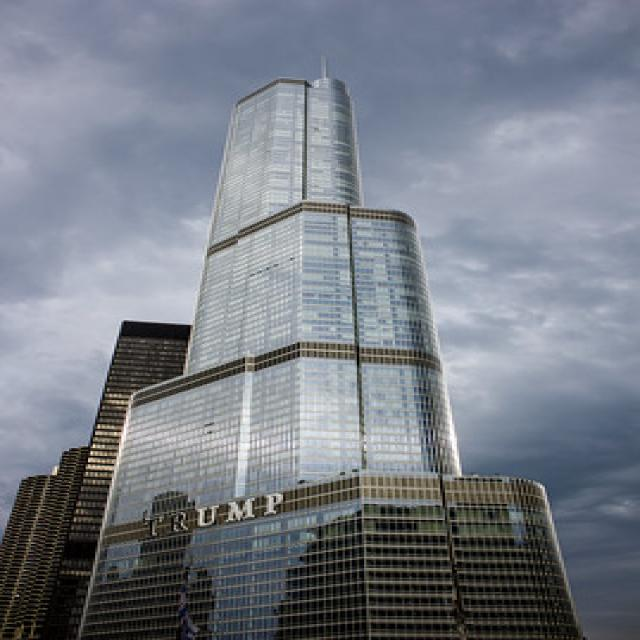Normal_building: (68, 67, 596, 640)
